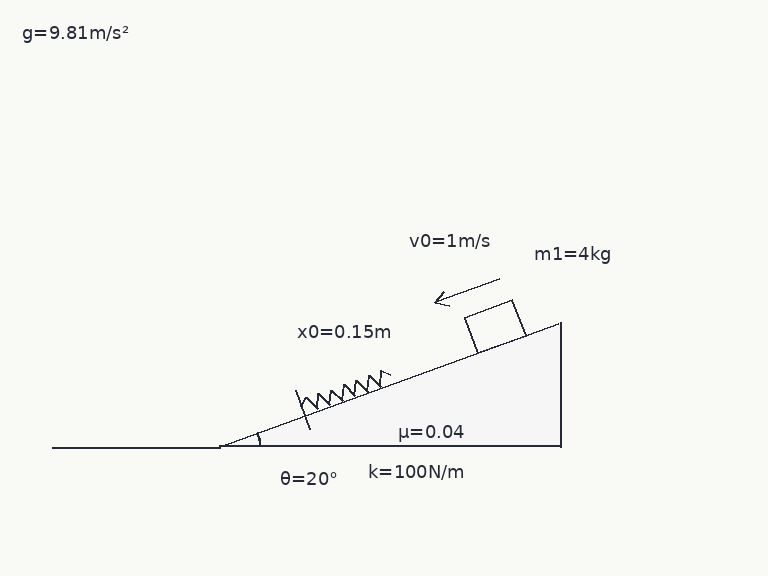block: (462, 298, 527, 354)
ramp: (218, 321, 561, 448)
spring: (300, 368, 392, 411)
